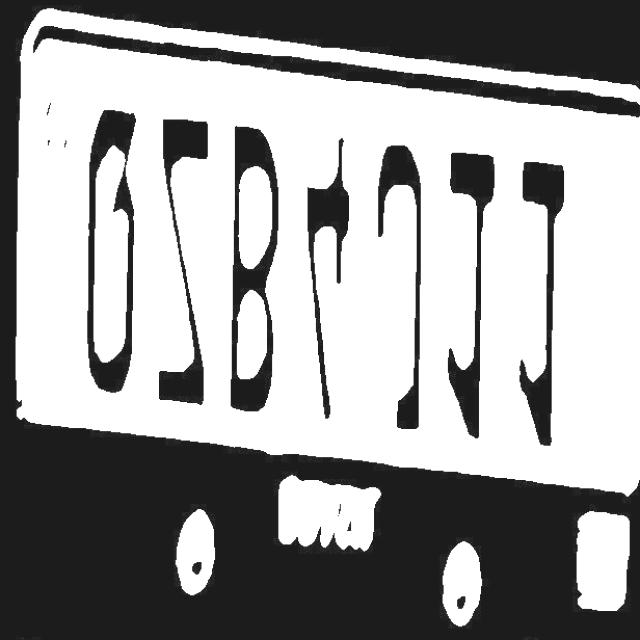1: (508, 156, 576, 449), (438, 146, 502, 440)
4: (286, 128, 362, 422)
b: (210, 127, 285, 412)
j: (363, 140, 437, 436)
q: (79, 114, 149, 401)
z: (145, 108, 212, 409)
